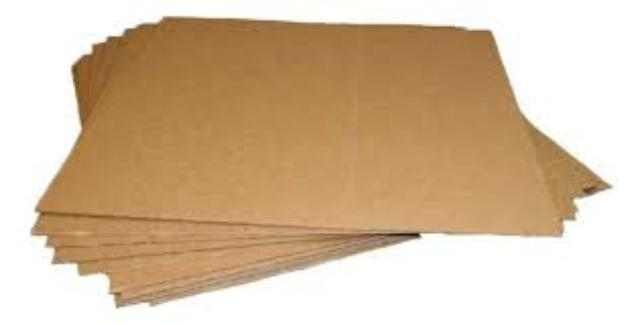cardboard paper: (30, 16, 603, 301)
